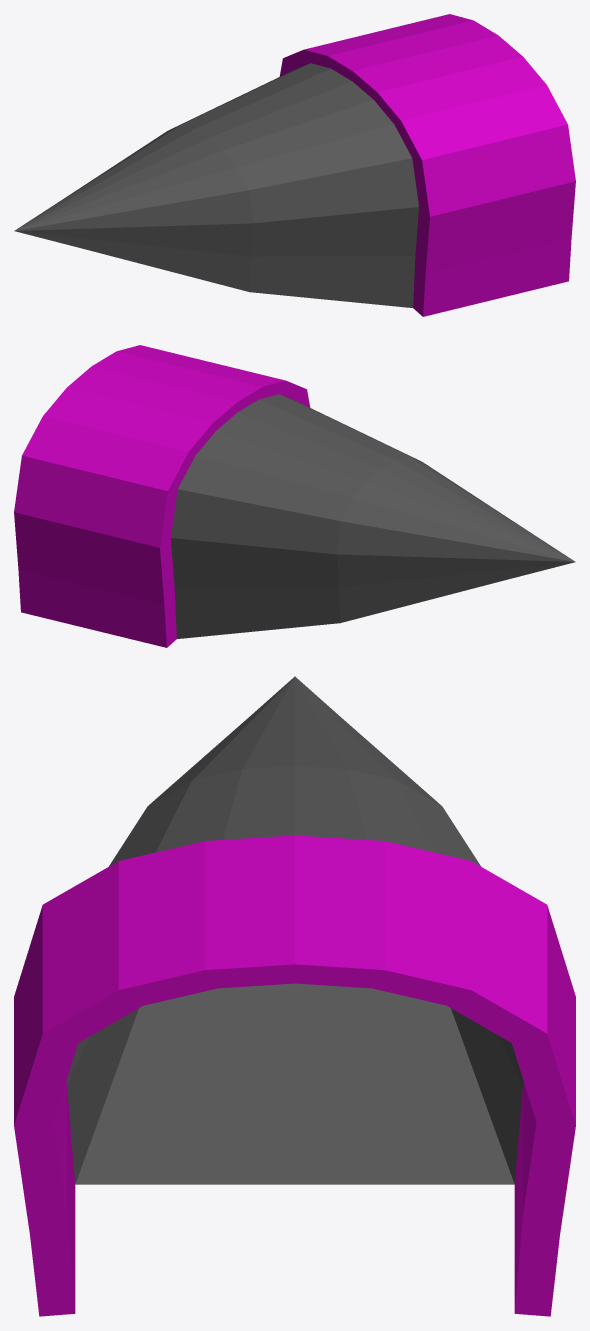
File: Tunnel.fbx
3 renders of one model, top to bottom at view 1: azimuth 30°, elevation 25°; view 2: azimuth 150°, elevation 25°; view 3: azimuth 270°, elevation 25°, orthographic. The views are drawn at different scales.
Visible parts, largest first — view 1: Circle.002; view 2: Circle.002; view 3: Circle.002.
Boxes of the visible parts, x1=… form: Circle.002: x1=14, y1=14, x2=575, y2=316; Circle.002: x1=14, y1=345, x2=575, y2=647; Circle.002: x1=14, y1=676, x2=575, y2=1316.
Bounding box in the file's own units: 5186 × 1988 × 2875.
